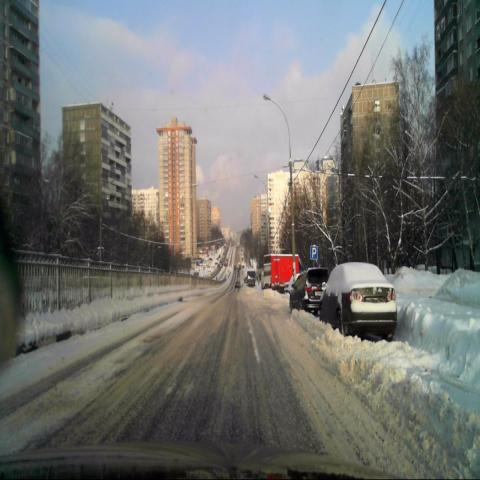6_4: (310, 244, 318, 260)
